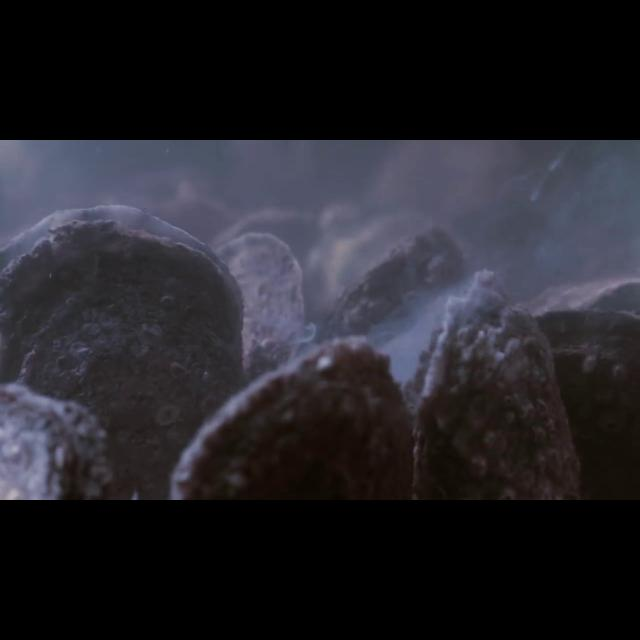Oyster-Closed: (2, 202, 246, 500), (168, 331, 414, 496), (413, 267, 586, 497), (528, 306, 635, 495), (315, 223, 471, 335), (0, 384, 120, 500), (218, 231, 307, 370), (521, 273, 638, 311)
